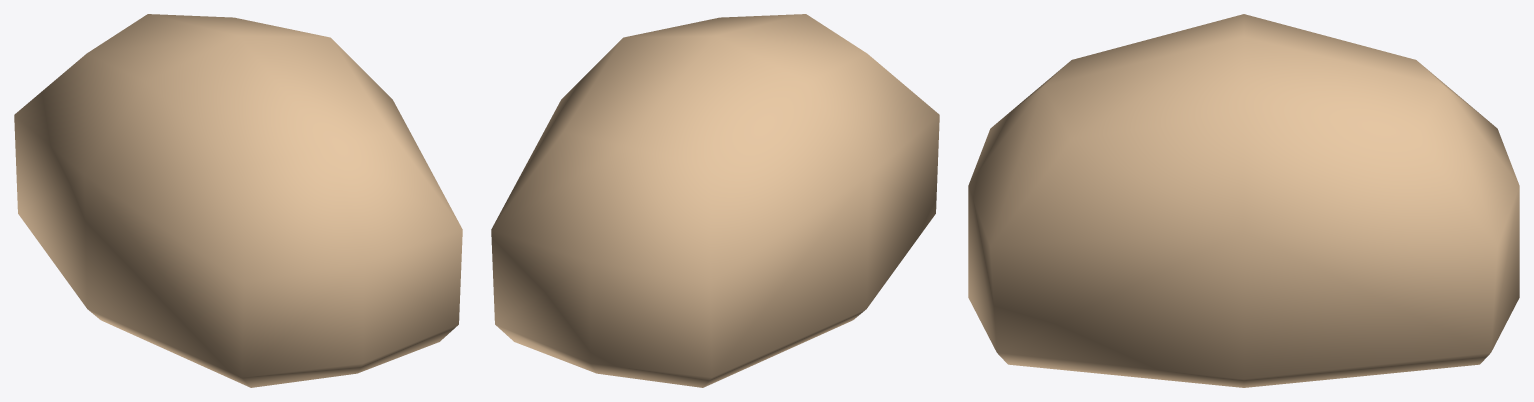
The model's file is bun.fbx.
3 views of the same model, side by side, from view 1: azimuth 30°, elevation 25°; view 2: azimuth 150°, elevation 25°; view 3: azimuth 270°, elevation 25° (orthographic). The views are drawn at different scales.
Parts seen in each view (by area): view 1: Box001; view 2: Box001; view 3: Box001.
Boxes of the visible parts, x1,y1,x2,y2 form: Box001: (14, 14, 462, 387); Box001: (491, 14, 939, 387); Box001: (968, 14, 1519, 387).
Size of the model in its own units: 10.7 by 8.31 by 15.
